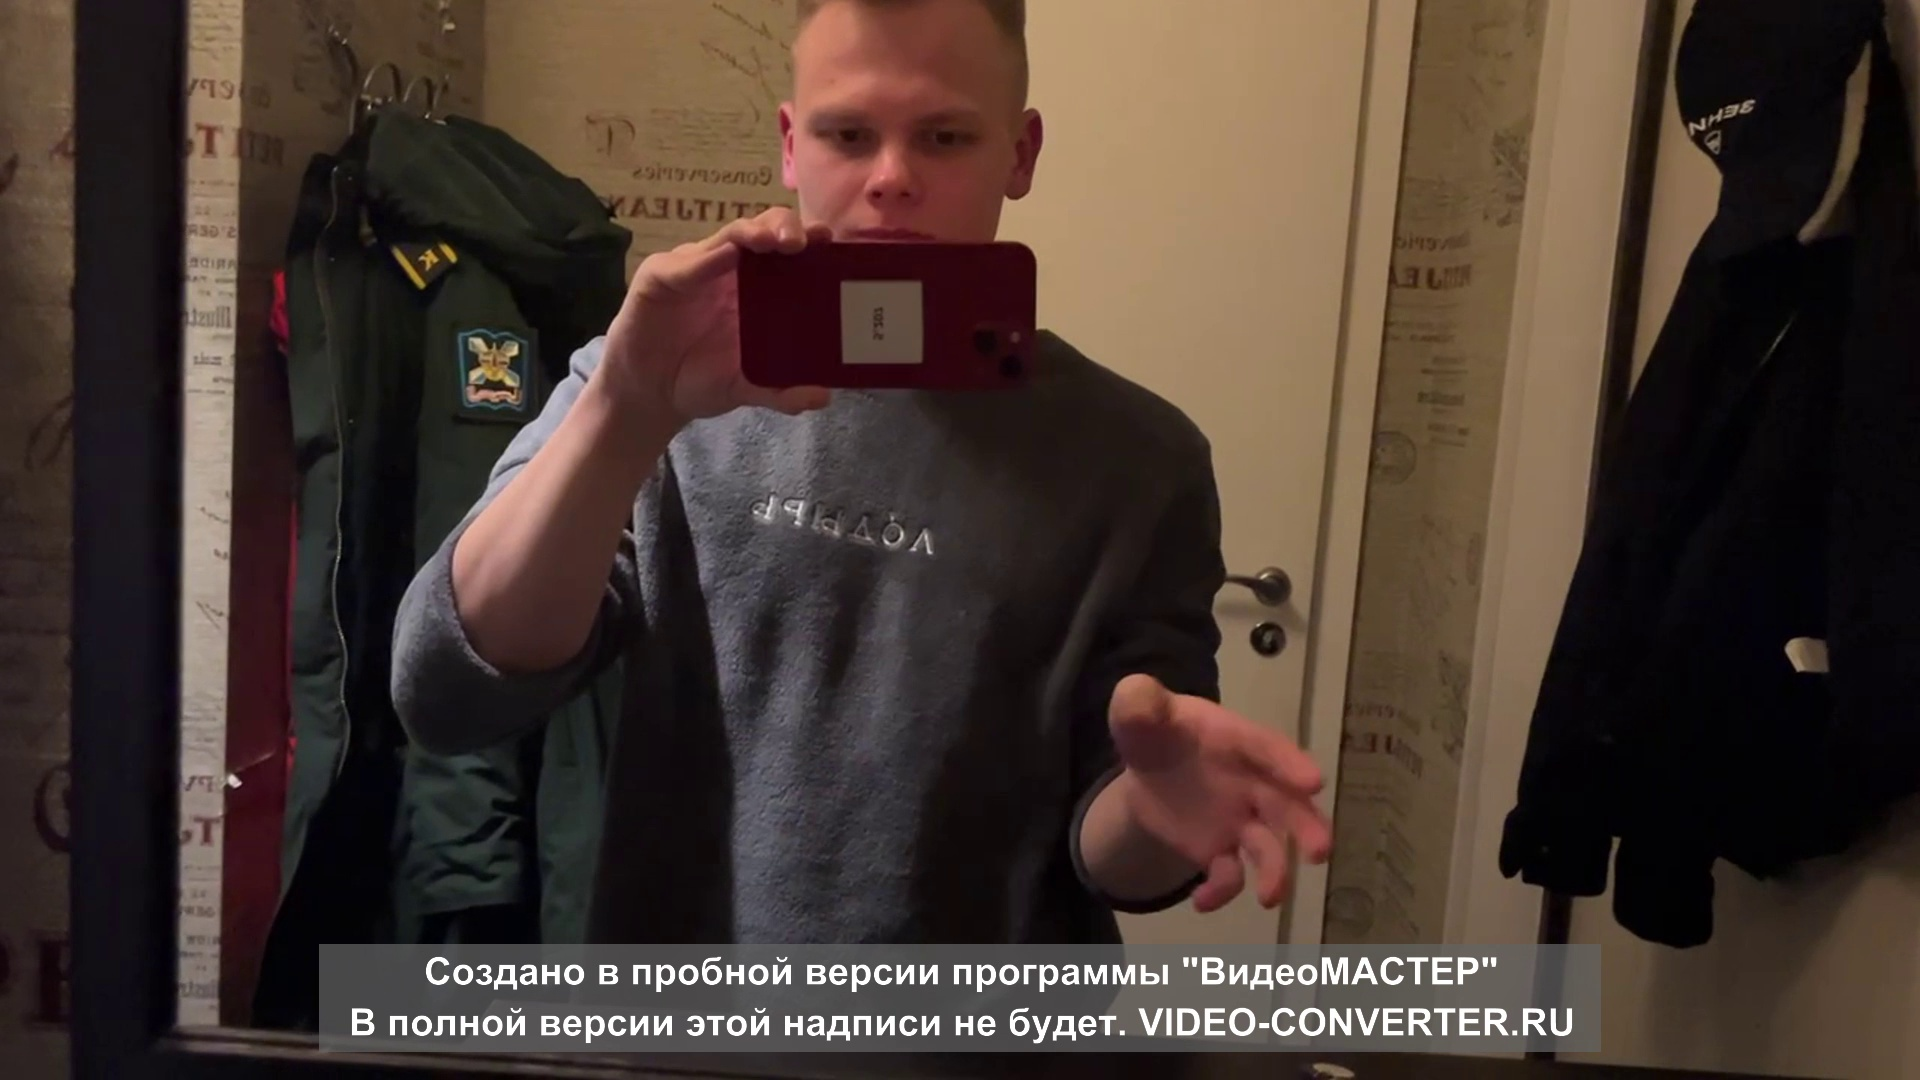Ладонь: (1104, 669, 1329, 916)
